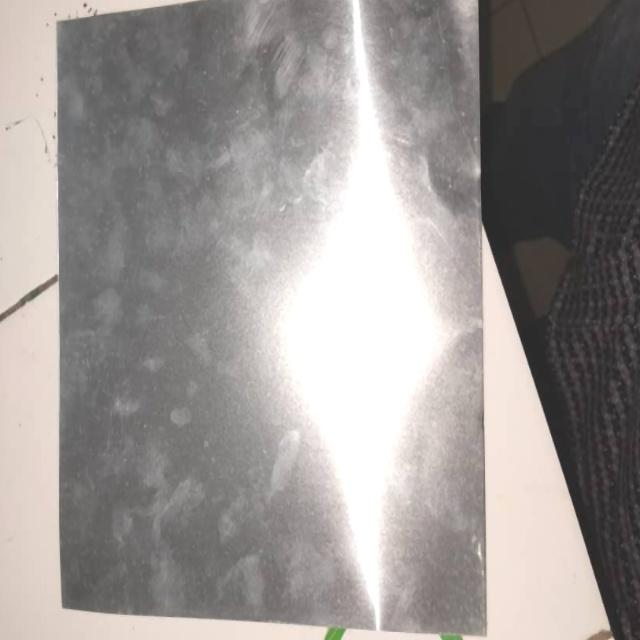TLC Plate: (50, 6, 489, 608)
